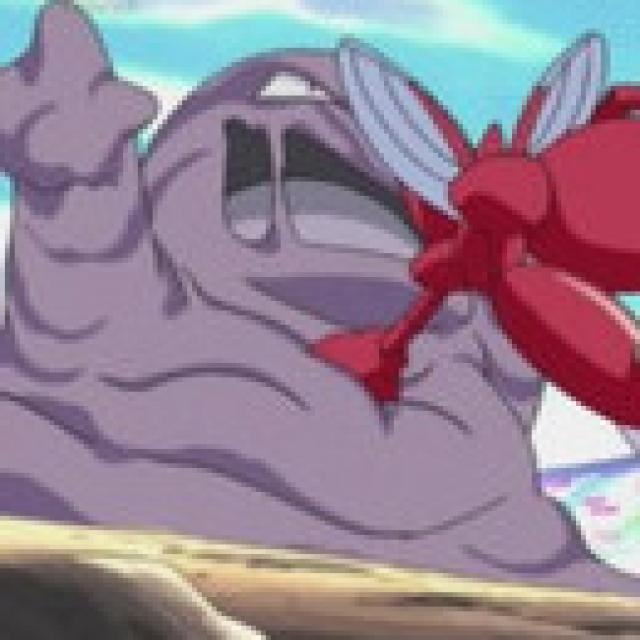Muk: (34, 47, 469, 551)
